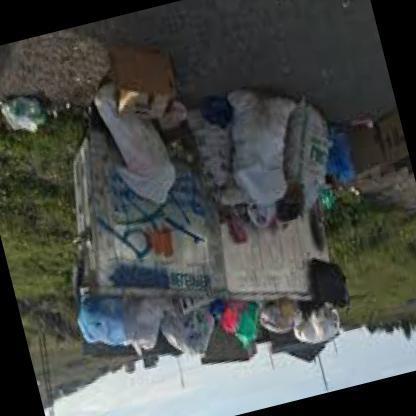Garbage: (213, 77, 332, 225), (91, 73, 186, 217), (258, 92, 353, 230), (185, 86, 272, 232), (342, 104, 414, 194), (64, 286, 142, 358), (314, 107, 366, 208), (162, 291, 224, 368), (112, 48, 180, 115), (117, 289, 176, 360), (288, 296, 360, 348), (300, 250, 358, 312), (226, 292, 277, 350), (256, 290, 310, 342), (0, 87, 53, 130), (244, 188, 285, 232), (214, 292, 247, 330), (275, 192, 302, 233), (222, 210, 250, 249)
